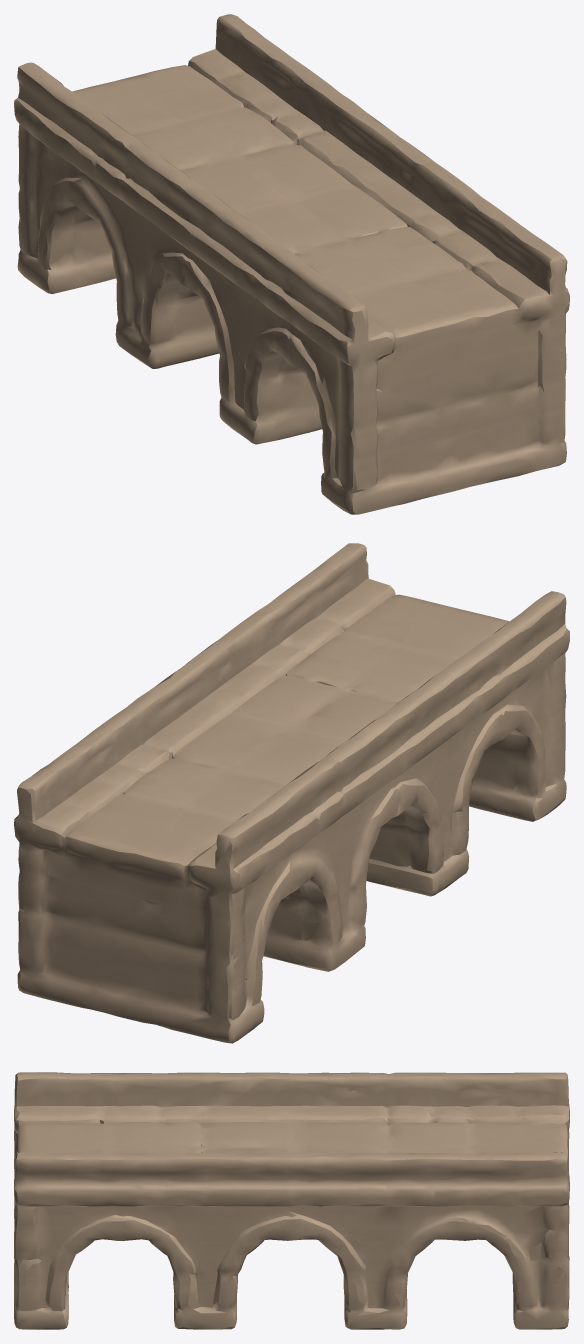
The model's file is english-stone-bridge.glb.
3 renders of one model, top to bottom at view 1: azimuth 30°, elevation 25°; view 2: azimuth 150°, elevation 25°; view 3: azimuth 270°, elevation 25°, orthographic. The views are drawn at different scales.
Visible parts, largest first — view 1: world; view 2: world; view 3: world.
Boxes of the visible parts, bbox=[...] form: world: bbox=[14, 14, 569, 514]; world: bbox=[14, 543, 569, 1043]; world: bbox=[14, 1072, 569, 1329].
Size of the model in its own units: 0.3 by 0.2659 by 0.7735.
Materials: 1 (1 with a texture image).
